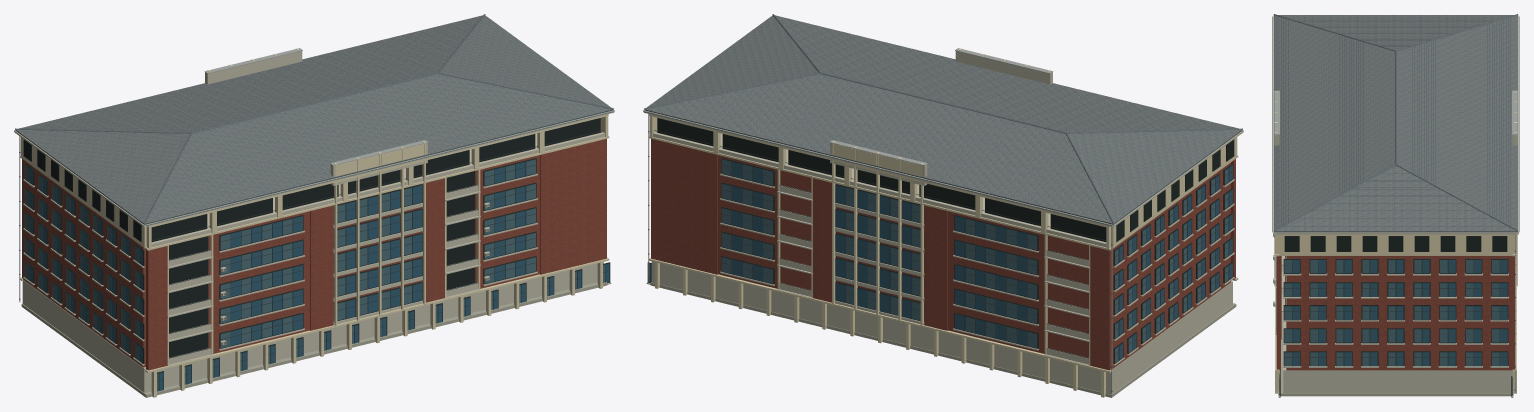
3 renders of one model, left to right at view 1: azimuth 30°, elevation 25°; view 2: azimuth 150°, elevation 25°; view 3: azimuth 270°, elevation 25°, orthographic. The views are drawn at different scales.
Visible parts, largest first — view 1: MainBlock_PhotoLowPitchedRoof_ClippedTileField_3, MainBlock_PhotoLowPitchedRoof_ClippedTileField_1, MainBlock_BroadSolidBrickPiers, MainBlock_SetBackBrickCore, MainBlock_PaleStoneGroundBody, MainBlock_PhotoLowPitchedRoof_ClippedTileField_4, MainBlock_ProjectingClassroomBrickField, MainBlock_CentralStair_GlassPane, MainBlock_ClassroomZone2_GlassPane, MainBlock_PhotoLowPitchedRoof_ClippedTileField_2, MainBlock_AtticDeepOpenCorridor, MainBlock_DeepLoggiaRearShadow (+41 smaller); view 2: MainBlock_PhotoLowPitchedRoof_ClippedTileField_1, MainBlock_PhotoLowPitchedRoof_ClippedTileField_3, MainBlock_BroadSolidBrickPiers, MainBlock_SetBackBrickCore, MainBlock_PaleStoneGroundBody, MainBlock_PhotoLowPitchedRoof_ClippedTileField_4, MainBlock_ProjectingClassroomBrickField, MainBlock_CentralStair_GlassPane, MainBlock_ClassroomZone2_GlassPane, MainBlock_PhotoLowPitchedRoof_ClippedTileField_2, MainBlock_AtticDeepOpenCorridor, MainBlock_SideRoom_GlassPane (+40 smaller); view 3: MainBlock_PhotoLowPitchedRoof_ClippedTileField_1, MainBlock_PhotoLowPitchedRoof_ClippedTileField_3, MainBlock_SetBackBrickCore, MainBlock_SideRoom_GlassPane, MainBlock_PhotoLowPitchedRoof_ClippedTileField_2, MainBlock_PhotoLowPitchedRoof_ThinOverlappingTileCourses, MainBlock_PaleStoneGroundBody, MainBlock_PhotoLowPitchedRoof_ClippedTileField_4, MainBlock_SideRoom_RecessShadow, MainBlock_UpperSideIvoryWall, MainBlock_SideRoom_DarkWindowTransom, MainBlock_PhotoLowPitchedRoof_ContinuousTileUnderlay (+16 smaller).
Part boxes in pixels (left/top/right/bottom): MainBlock_PhotoLowPitchedRoof_ClippedTileField_3: left=144, top=74, right=612, bottom=223; MainBlock_PhotoLowPitchedRoof_ClippedTileField_1: left=19, top=15, right=482, bottom=132; MainBlock_BroadSolidBrickPiers: left=22, top=139, right=606, bottom=370; MainBlock_SetBackBrickCore: left=23, top=160, right=477, bottom=367; MainBlock_PaleStoneGroundBody: left=22, top=262, right=603, bottom=392; MainBlock_PhotoLowPitchedRoof_ClippedTileField_4: left=16, top=129, right=190, bottom=223; MainBlock_ProjectingClassroomBrickField: left=213, top=155, right=539, bottom=353; MainBlock_CentralStair_GlassPane: left=337, top=185, right=421, bottom=320; MainBlock_ClassroomZone2_GlassPane: left=220, top=216, right=302, bottom=347; MainBlock_PhotoLowPitchedRoof_ClippedTileField_2: left=439, top=15, right=611, bottom=107; MainBlock_AtticDeepOpenCorridor: left=151, top=118, right=600, bottom=242; MainBlock_DeepLoggiaRearShadow: left=169, top=171, right=475, bottom=357; MainBlock_PhotoLowPitchedRoof_ClippedTileField_1: left=645, top=74, right=1113, bottom=223; MainBlock_PhotoLowPitchedRoof_ClippedTileField_3: left=775, top=15, right=1238, bottom=132; MainBlock_BroadSolidBrickPiers: left=651, top=139, right=1235, bottom=370; MainBlock_SetBackBrickCore: left=780, top=162, right=1230, bottom=369; MainBlock_PaleStoneGroundBody: left=651, top=261, right=1232, bottom=394; MainBlock_PhotoLowPitchedRoof_ClippedTileField_4: left=1067, top=129, right=1241, bottom=223; MainBlock_ProjectingClassroomBrickField: left=718, top=155, right=1044, bottom=353; MainBlock_CentralStair_GlassPane: left=836, top=185, right=920, bottom=320; MainBlock_ClassroomZone2_GlassPane: left=955, top=216, right=1037, bottom=347; MainBlock_PhotoLowPitchedRoof_ClippedTileField_2: left=646, top=15, right=818, bottom=107; MainBlock_AtticDeepOpenCorridor: left=657, top=118, right=1106, bottom=242; MainBlock_SideRoom_GlassPane: left=1115, top=165, right=1232, bottom=362; MainBlock_PhotoLowPitchedRoof_ClippedTileField_1: left=1397, top=15, right=1517, bottom=230; MainBlock_PhotoLowPitchedRoof_ClippedTileField_3: left=1274, top=15, right=1394, bottom=229; MainBlock_SetBackBrickCore: left=1286, top=256, right=1512, bottom=370; MainBlock_SideRoom_GlassPane: left=1284, top=260, right=1507, bottom=365; MainBlock_PhotoLowPitchedRoof_ClippedTileField_2: left=1275, top=165, right=1516, bottom=231; MainBlock_PhotoLowPitchedRoof_ThinOverlappingTileCourses: left=1274, top=15, right=1507, bottom=230; MainBlock_PaleStoneGroundBody: left=1283, top=256, right=1512, bottom=393; MainBlock_PhotoLowPitchedRoof_ClippedTileField_4: left=1278, top=15, right=1513, bottom=50; MainBlock_SideRoom_RecessShadow: left=1283, top=259, right=1508, bottom=365; MainBlock_UpperSideIvoryWall: left=1279, top=234, right=1512, bottom=255; MainBlock_SideRoom_DarkWindowTransom: left=1284, top=259, right=1507, bottom=366; MainBlock_PhotoLowPitchedRoof_ContinuousTileUnderlay: left=1284, top=15, right=1515, bottom=230.
Bounding box in the file's own units: 73.61 × 28.9 × 35.35.
15 materials, 1 textured.
